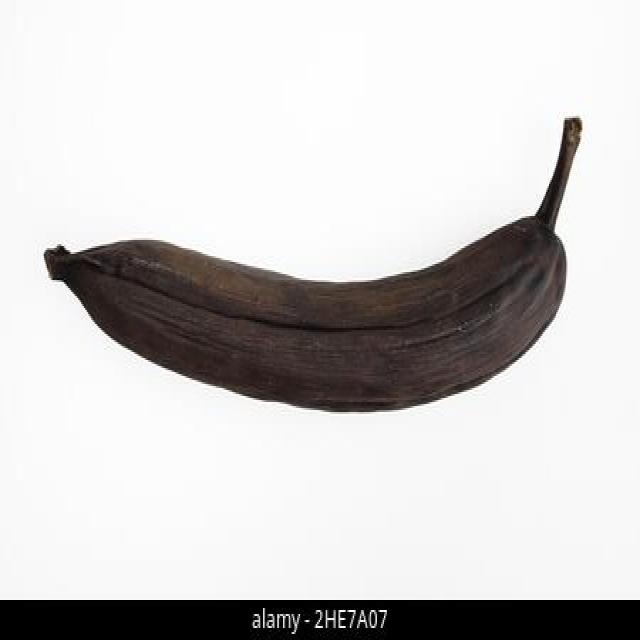Rotten: (45, 115, 582, 414)
